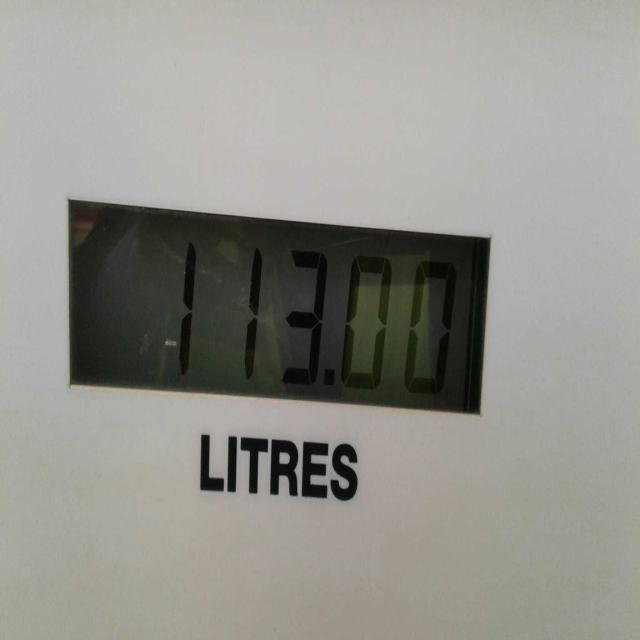.: (316, 352, 339, 400)
0: (335, 248, 398, 406), (399, 250, 462, 400), (163, 238, 208, 382)
1: (227, 252, 280, 382)
3: (273, 240, 328, 394)
